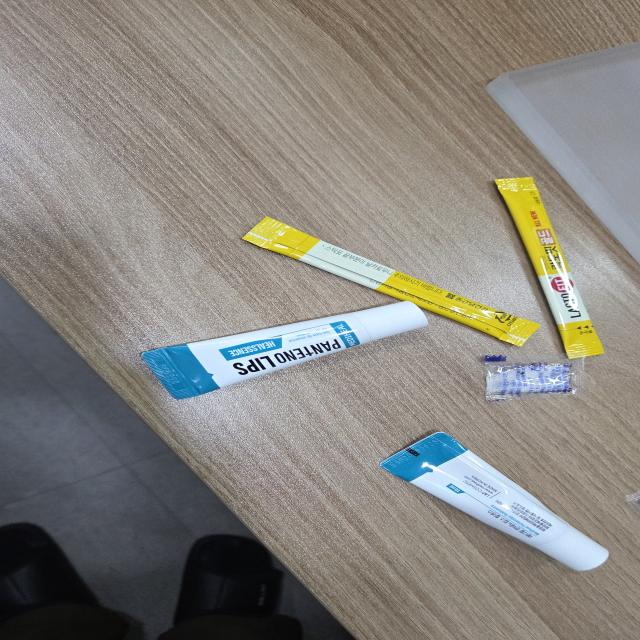lacto: (232, 208, 548, 351), (488, 174, 616, 360)
lip: (371, 423, 619, 585), (128, 300, 440, 411)
salt: (477, 354, 599, 409)
